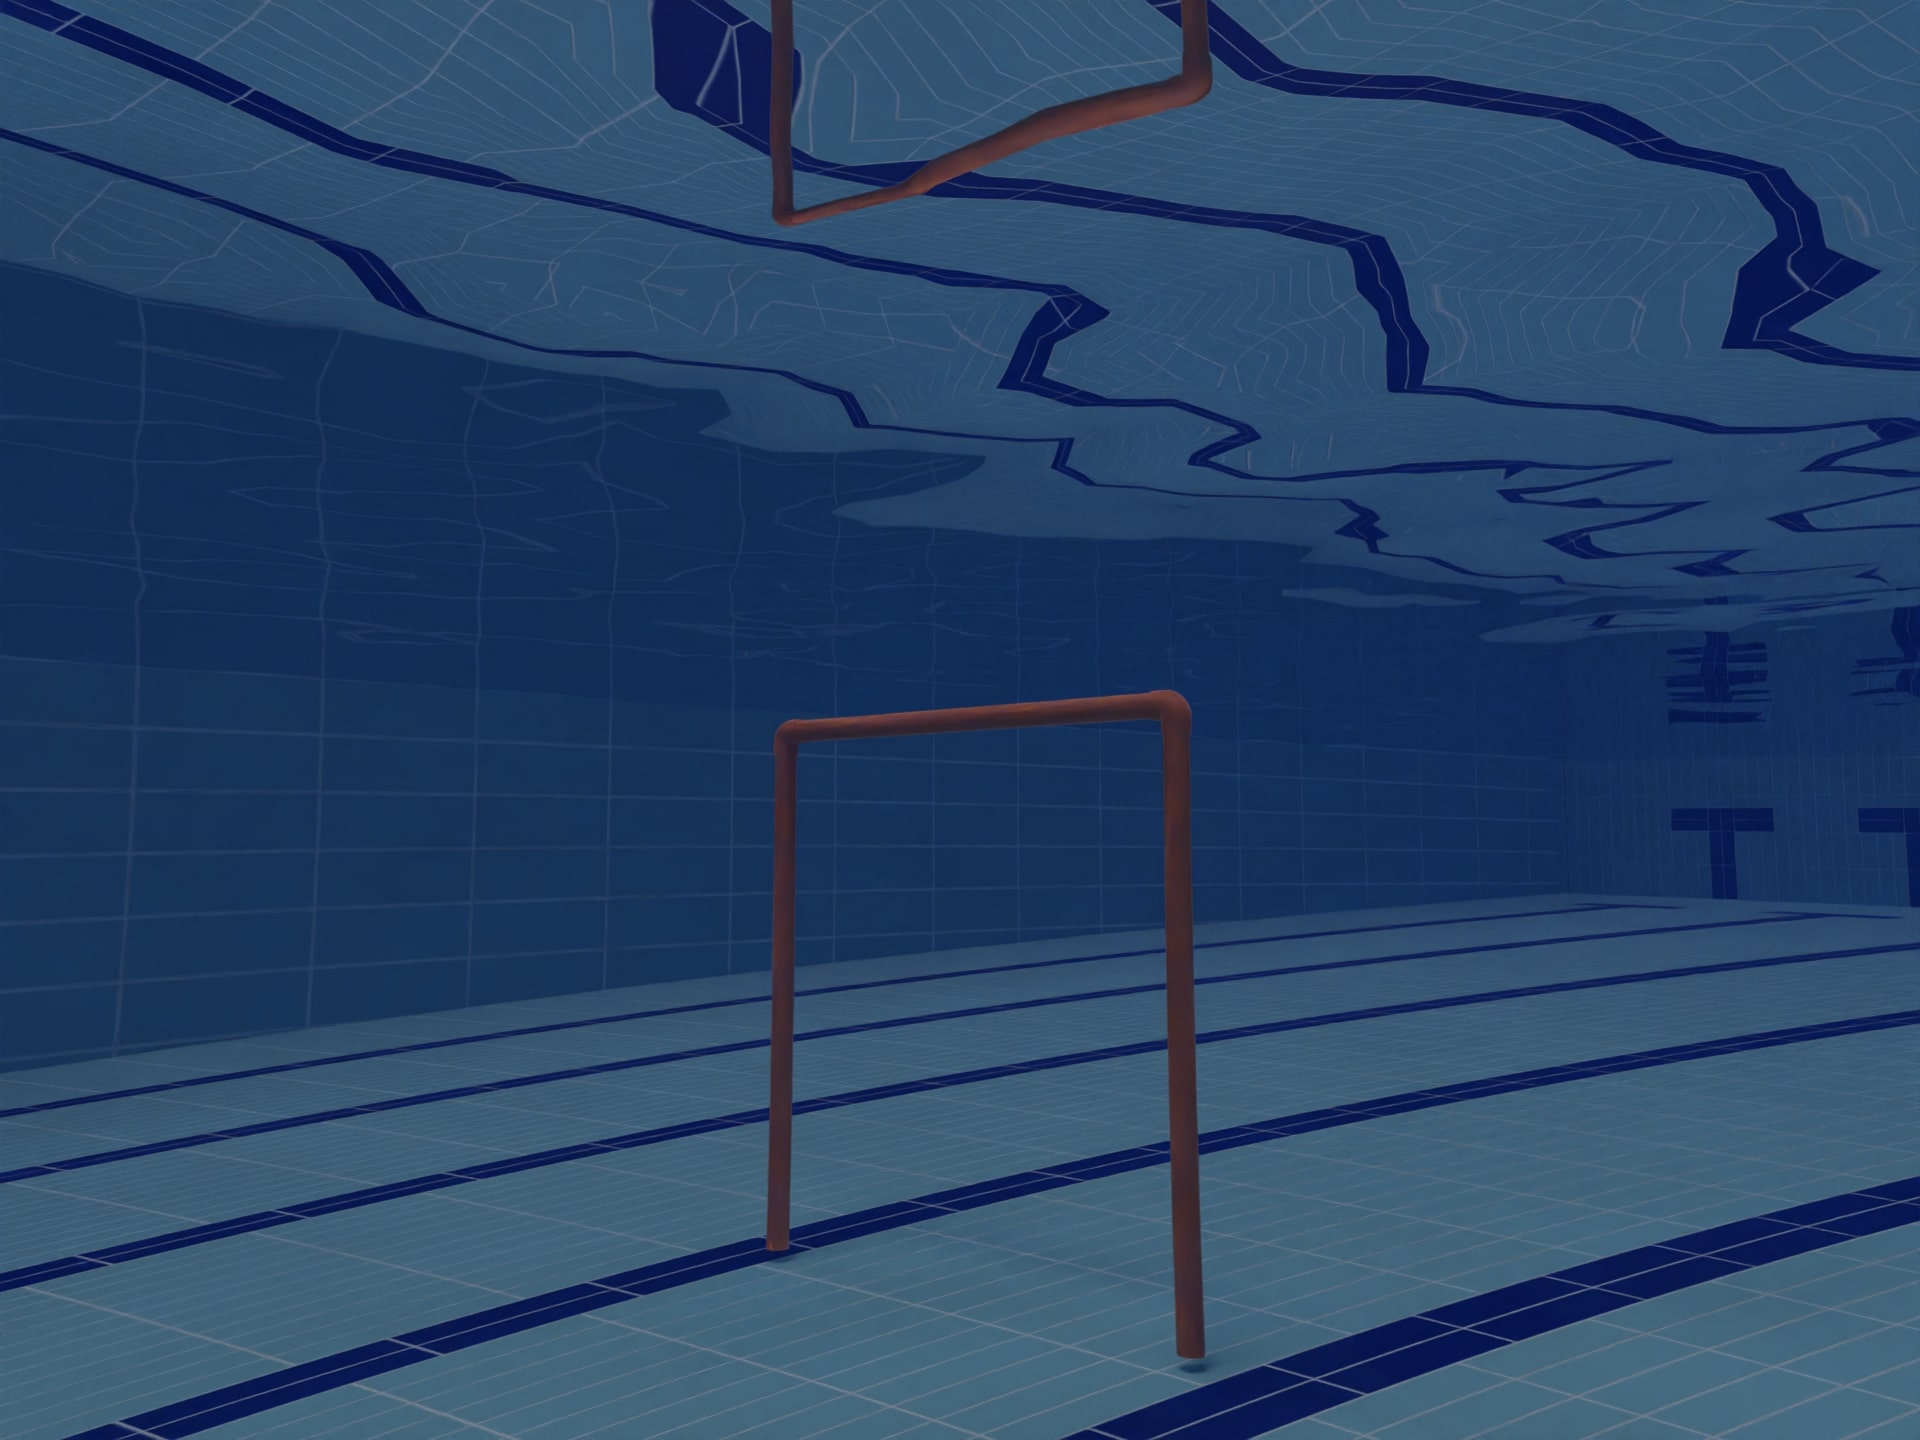gate: (735, 687, 1284, 1404)
